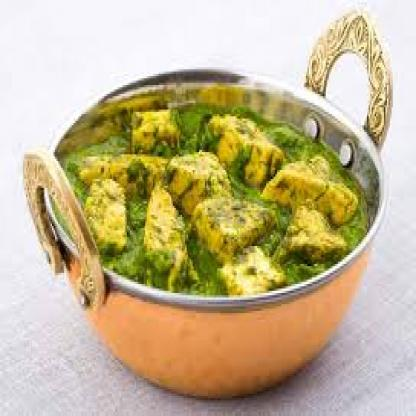palak_paneer: (57, 103, 367, 296)
